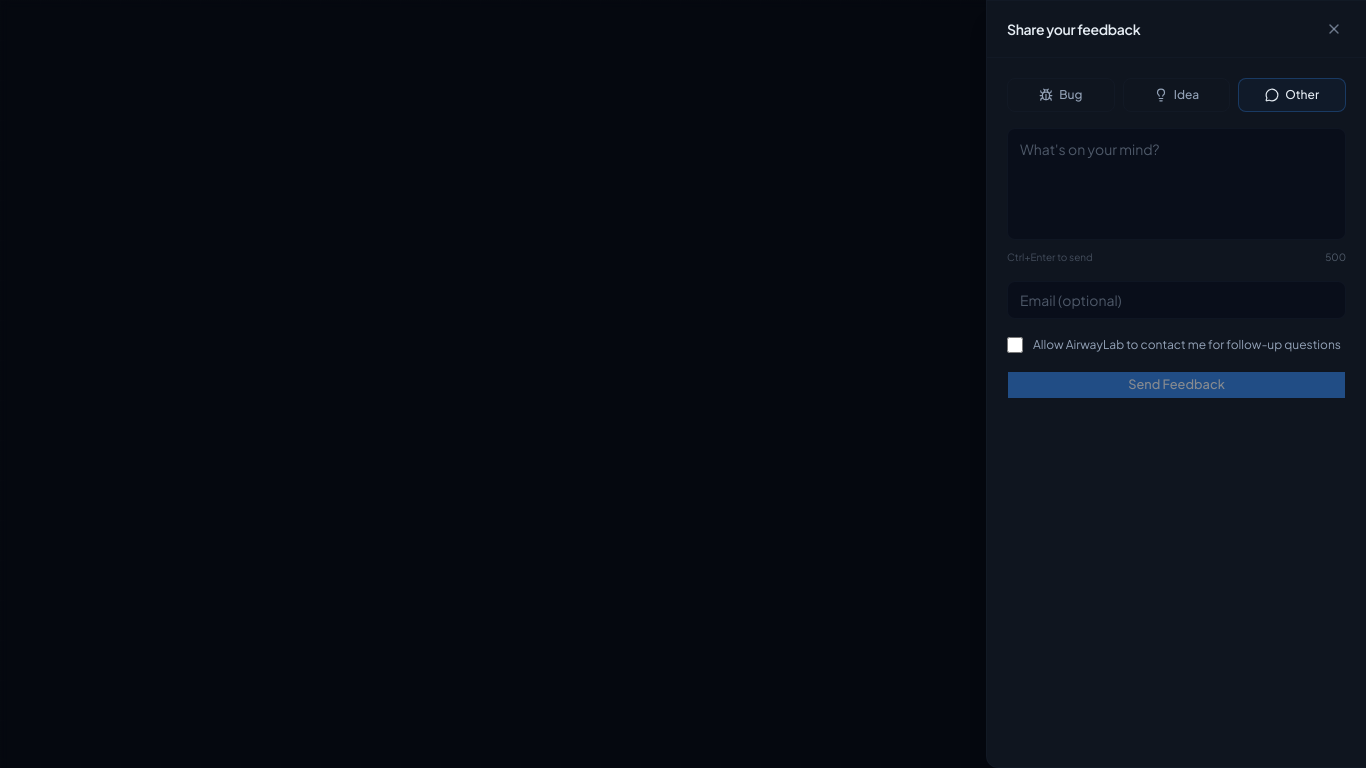
Test: FeedbackPanel › shows rate limit message on 429
The width and height of the screenshot is (1366, 768).
Type "Testing rate limit" into the text box with placeholder "What's on your mind?" at [1176, 184], box [1007,128,1346,240]
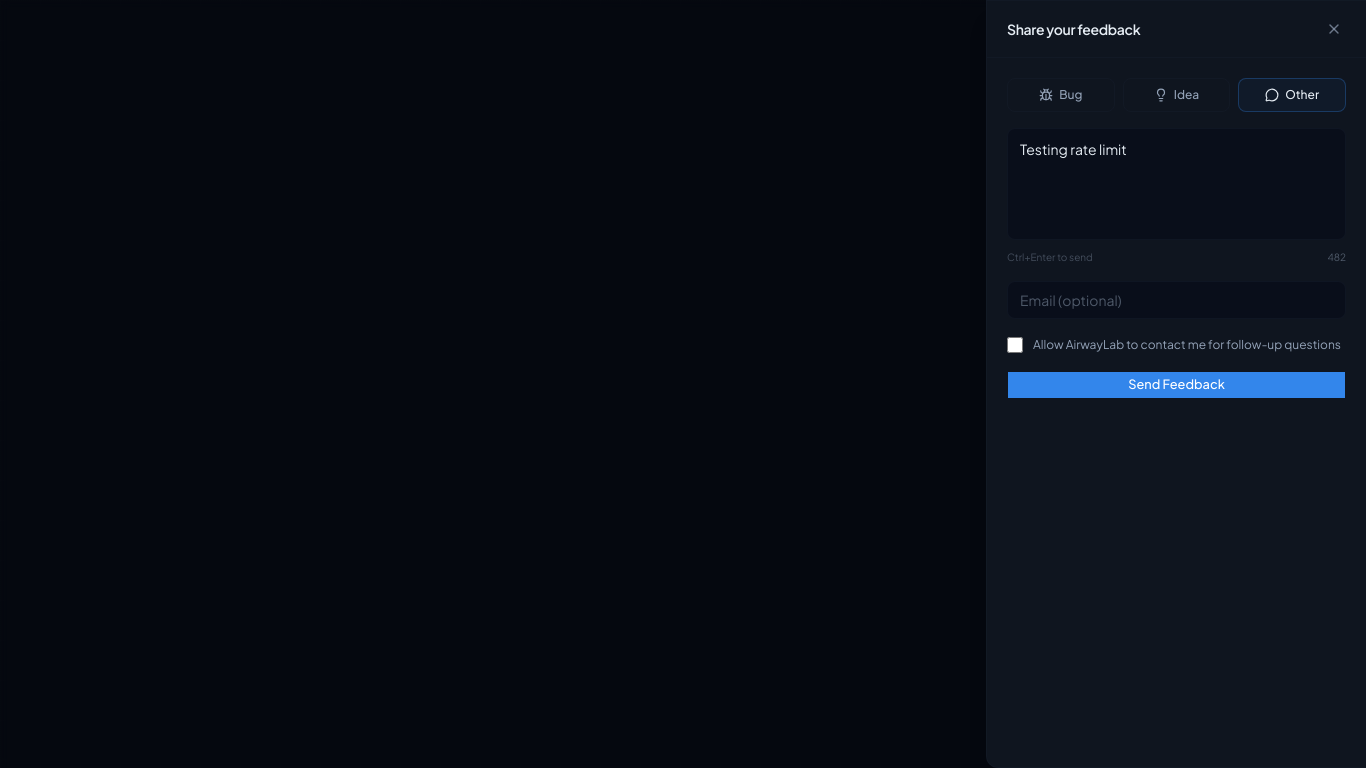
Click the button "Send Feedback" at [1176, 384], box [1007,370,1346,398]
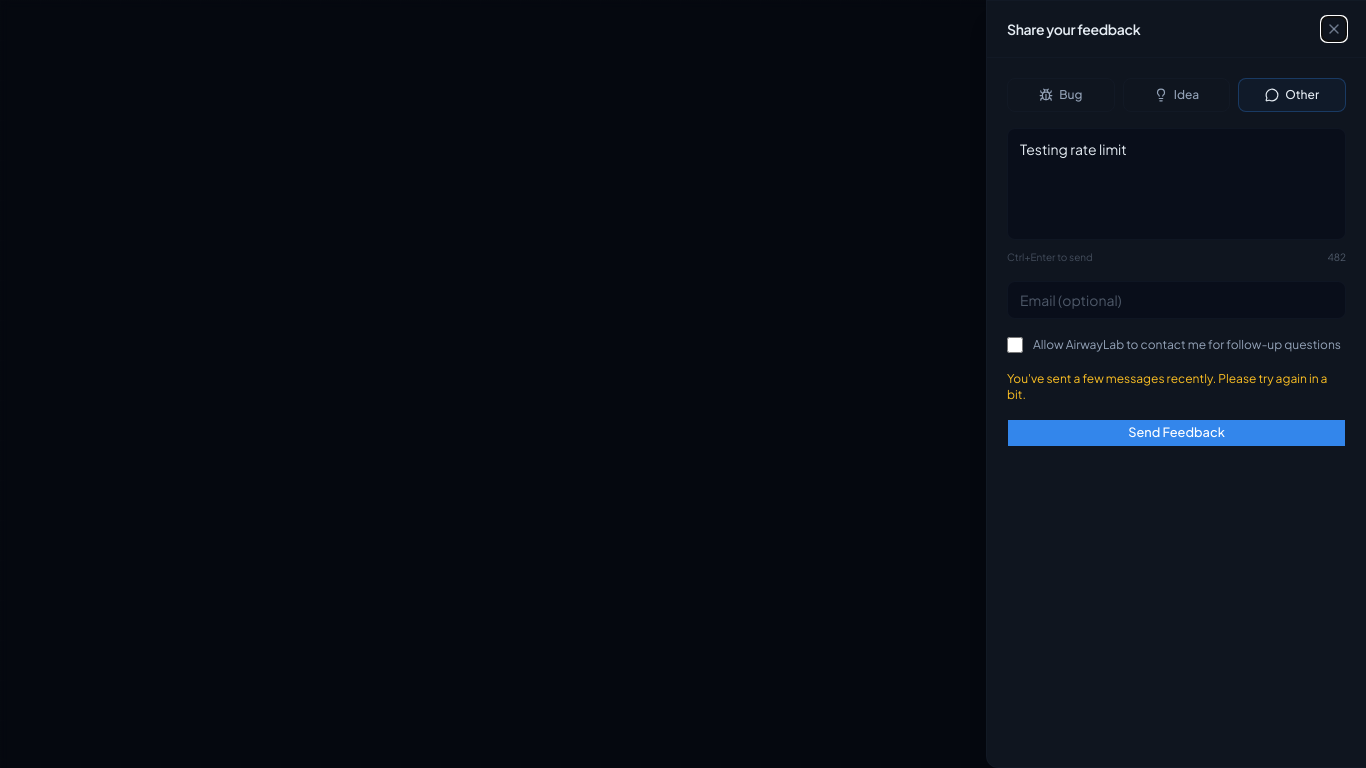
Result: the text "You've sent a few messages recently. Please try again in a bit." is shown at [1007,370,1346,402]
